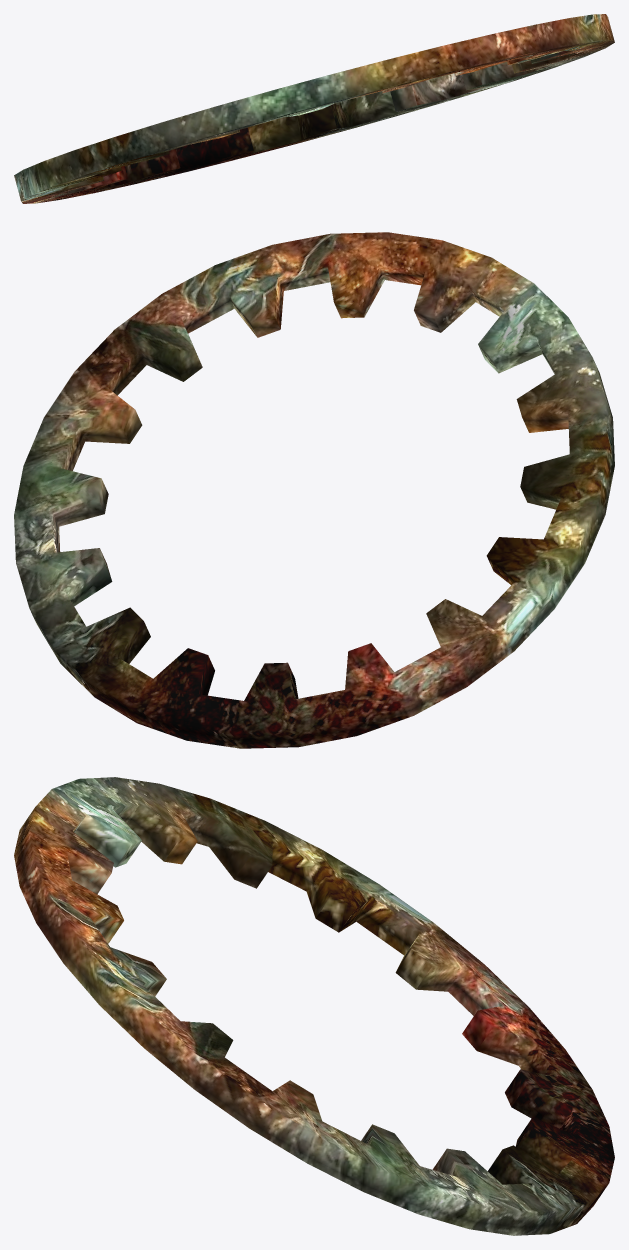
File: Gear4.FBX
3 views of the same model, one above another, from view 1: azimuth 30°, elevation 25°; view 2: azimuth 150°, elevation 25°; view 3: azimuth 270°, elevation 25° (orthographic). The views are drawn at different scales.
Parts seen in each view (by area): view 1: Gear_Sphere_0; view 2: Gear_Sphere_0; view 3: Gear_Sphere_0.
Boxes of the visible parts, box(x1,y1,x2,y2) form: Gear_Sphere_0: box(14, 14, 614, 203); Gear_Sphere_0: box(14, 232, 614, 748); Gear_Sphere_0: box(14, 777, 614, 1235).
Bounding box in the file's own units: 19.12 × 10.72 × 16.73.
Materials: 1 (1 with a texture image).
